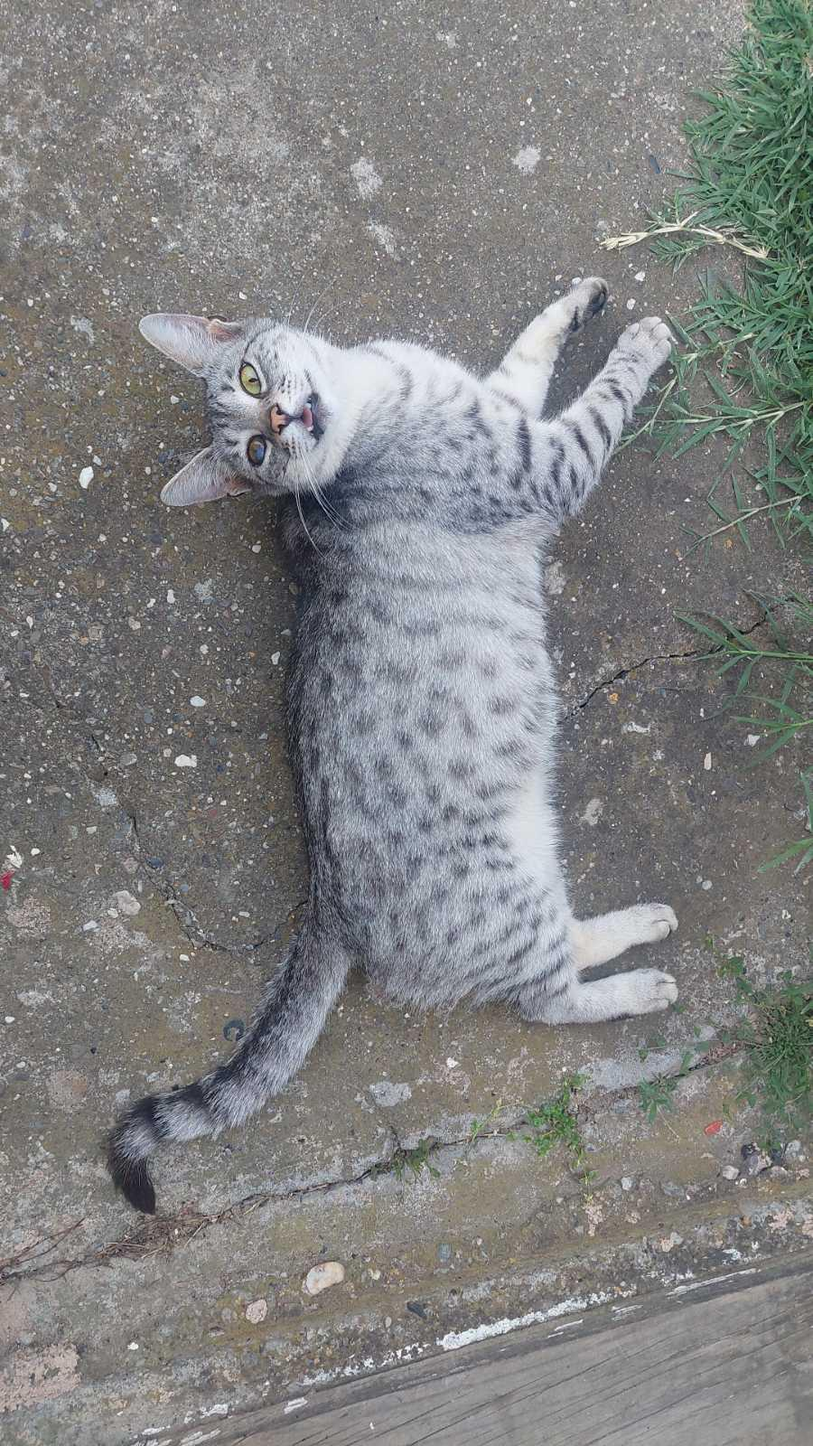macka: (99, 272, 678, 1221)
